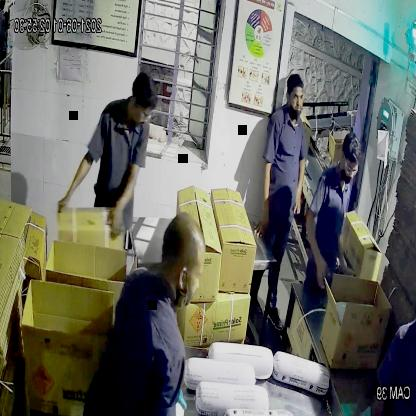goggles: (339, 158, 360, 182)
